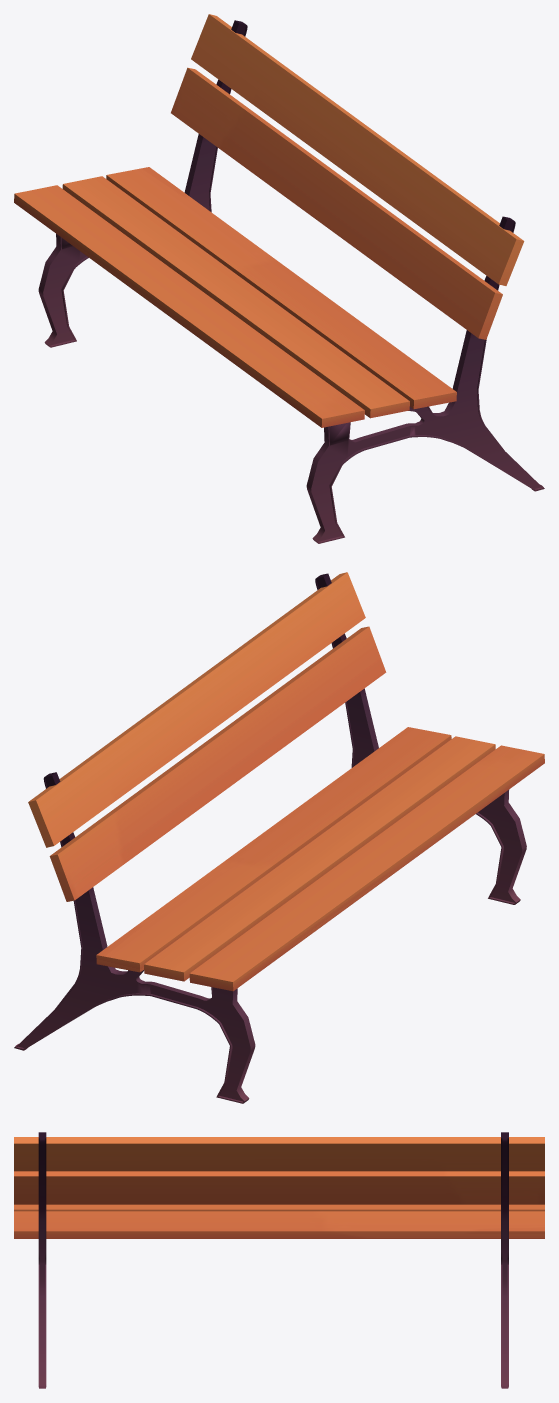
File: Banca2.fbx
3 renders of one model, top to bottom at view 1: azimuth 30°, elevation 25°; view 2: azimuth 150°, elevation 25°; view 3: azimuth 270°, elevation 25°, orthographic. The views are drawn at different scales.
Parts seen in each view (by area): view 1: banca_01.005; view 2: banca_01.005; view 3: banca_01.005.
Part boxes in pixels (left/top/right/bottom): banca_01.005: left=14, top=14, right=544, bottom=543; banca_01.005: left=14, top=572, right=544, bottom=1103; banca_01.005: left=14, top=1132, right=544, bottom=1388.
Bounding box in the file's own units: 147 × 165 × 329.
1 material, 1 textured.
